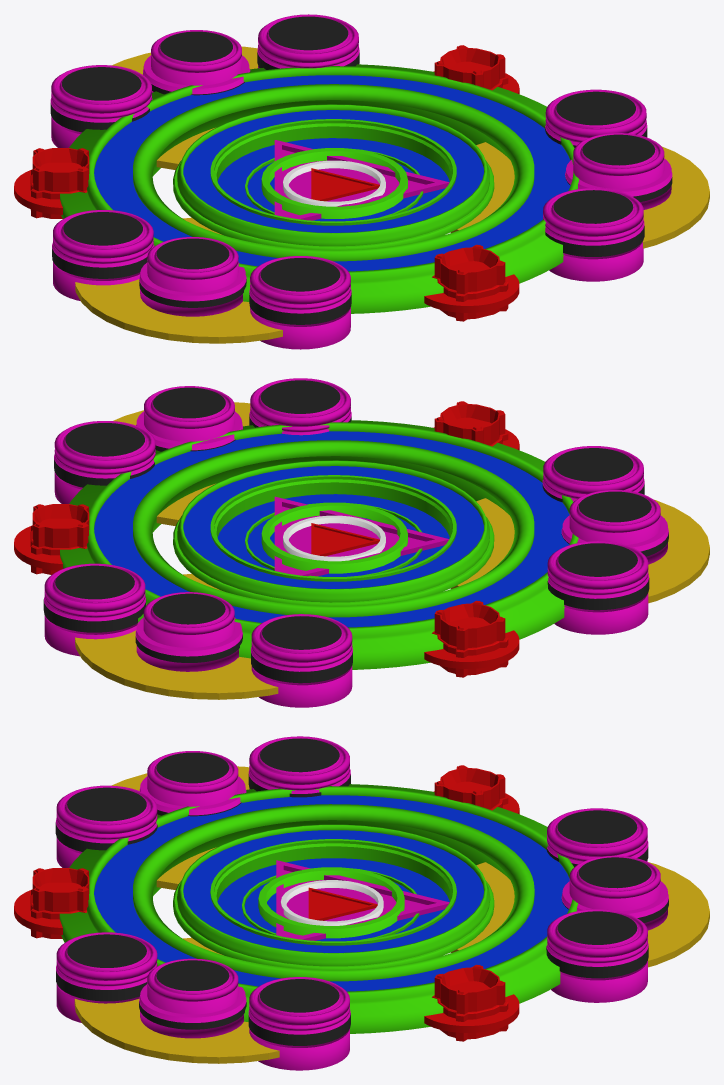
File: arena.fbx
The picture shows the model from 3 angles, top to bottom: view 1: azimuth 30°, elevation 25°; view 2: azimuth 150°, elevation 25°; view 3: azimuth 270°, elevation 25°; orthographic projection.
Visible parts, largest first — view 1: Cylinder.006_Cylinder.012, Gear.005_Gear.000, Cylinder.006_Cylinder.000, Gear.005_Gear.001, Cylinder.015_Cylinder.028, Cube_Cube.005, Gear.005_Gear.002, Plane, Cylinder.005_Cylinder.015, Cylinder.014_Cylinder.013, Cylinder.022_Cylinder.006, Cylinder.023_Cylinder.007 (+1 smaller); view 2: Cylinder.006_Cylinder.012, Gear.005_Gear.000, Cylinder.006_Cylinder.000, Gear.005_Gear.001, Cylinder.015_Cylinder.028, Cube_Cube.005, Gear.005_Gear.002, Plane, Cylinder.005_Cylinder.015, Cylinder.014_Cylinder.013, Cylinder.022_Cylinder.006, Cylinder.023_Cylinder.007 (+1 smaller); view 3: Cylinder.006_Cylinder.012, Gear.005_Gear.000, Cylinder.006_Cylinder.000, Gear.005_Gear.001, Cylinder.015_Cylinder.028, Cube_Cube.005, Gear.005_Gear.002, Plane, Cylinder.005_Cylinder.015, Cylinder.014_Cylinder.013, Cylinder.022_Cylinder.006, Cylinder.023_Cylinder.007 (+1 smaller).
Part boxes in pixels (x1,y1,x2,y2): Cylinder.006_Cylinder.012: [60, 64, 579, 313]; Gear.005_Gear.000: [50, 14, 672, 349]; Cylinder.006_Cylinder.000: [94, 75, 570, 271]; Gear.005_Gear.001: [62, 16, 655, 291]; Cylinder.015_Cylinder.028: [75, 46, 709, 343]; Cube_Cube.005: [14, 45, 519, 321]; Gear.005_Gear.002: [50, 52, 672, 324]; Plane: [217, 138, 449, 221]; Cylinder.005_Cylinder.015: [261, 148, 407, 218]; Cylinder.014_Cylinder.013: [274, 140, 449, 220]; Cylinder.022_Cylinder.006: [283, 160, 385, 206]; Cylinder.023_Cylinder.007: [311, 168, 379, 201]; Cylinder.006_Cylinder.012: [60, 420, 578, 669]; Gear.005_Gear.000: [44, 378, 668, 707]; Cylinder.006_Cylinder.000: [94, 431, 569, 627]; Gear.005_Gear.001: [55, 380, 651, 649]; Cylinder.015_Cylinder.028: [75, 402, 709, 699]; Cube_Cube.005: [14, 401, 519, 677]; Gear.005_Gear.002: [43, 414, 668, 683]; Plane: [217, 494, 449, 576]; Cylinder.005_Cylinder.015: [261, 502, 407, 573]; Cylinder.014_Cylinder.013: [274, 496, 448, 576]; Cylinder.022_Cylinder.006: [283, 515, 385, 561]; Cylinder.023_Cylinder.007: [311, 523, 379, 556]; Cylinder.006_Cylinder.012: [59, 784, 577, 1033]; Gear.005_Gear.000: [55, 736, 668, 1070]; Cylinder.006_Cylinder.000: [94, 795, 569, 991]; Gear.005_Gear.001: [67, 738, 651, 1012]; Cylinder.015_Cylinder.028: [74, 766, 709, 1063]; Cube_Cube.005: [14, 765, 519, 1041]; Gear.005_Gear.002: [55, 774, 668, 1045]; Plane: [217, 858, 449, 941]; Cylinder.005_Cylinder.015: [258, 867, 404, 938]; Cylinder.014_Cylinder.013: [276, 860, 449, 940]; Cylinder.022_Cylinder.006: [280, 880, 383, 925]; Cylinder.023_Cylinder.007: [308, 887, 377, 920].
Bounding box in the file's own units: 3770 × 425 × 3803.
